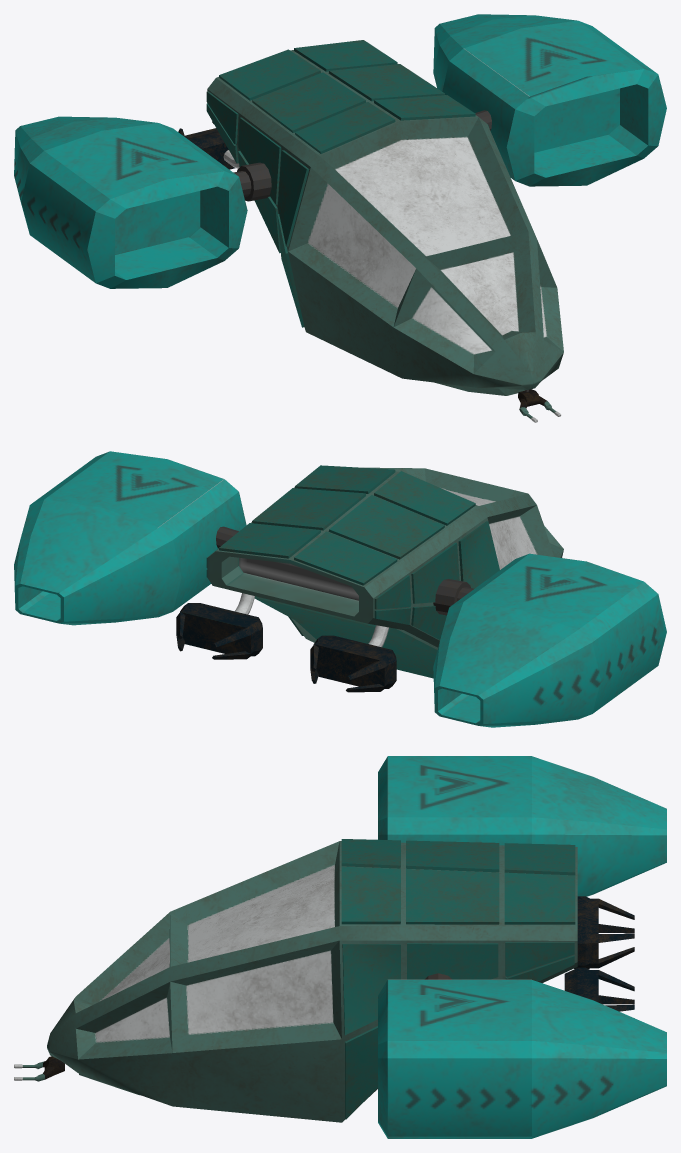
File: Spaceship.obj
3 renders of one model, top to bottom at view 1: azimuth 30°, elevation 25°; view 2: azimuth 150°, elevation 25°; view 3: azimuth 270°, elevation 25°, orthographic. The views are drawn at different scales.
Visible parts, largest first — view 1: group1 main_body, group1 R_booster, group1 L_booster, group1 polySurface22, group1 polySurface25, group1 polySurface20, group1 polySurface18, group1 polySurface24, group1 polySurface17, group1 polySurface13, group1 polySurface9, group1 R_strut (+4 smaller); view 2: group1 R_booster, group1 L_booster, group1 main_body, group1 polySurface22, group1 R_back_light, group1 L_back_light, group1 hatch_door, group1 polySurface20, group1 polySurface25, group1 polySurface18, group1 polySurface24, group1 polySurface17 (+6 smaller); view 3: group1 main_body, group1 L_booster, group1 R_booster, group1 polySurface20, group1 polySurface26, group1 polySurface24, group1 polySurface17, group1 polySurface28, group1 polySurface22, group1 R_back_light, group1 polySurface30, group1 polySurface25 (+5 smaller).
Part boxes in pixels (left/top/right/bottom): group1 main_body: left=207, top=50, right=563, bottom=395; group1 R_booster: left=14, top=116, right=247, bottom=288; group1 L_booster: left=433, top=14, right=666, bottom=186; group1 polySurface22: left=252, top=72, right=365, bottom=132; group1 polySurface25: left=219, top=49, right=320, bottom=100; group1 polySurface20: left=328, top=64, right=444, bottom=101; group1 polySurface18: left=295, top=102, right=395, bottom=153; group1 polySurface24: left=294, top=40, right=397, bottom=71; group1 polySurface17: left=374, top=95, right=475, bottom=120; group1 polySurface13: left=277, top=150, right=309, bottom=246; group1 polySurface9: left=238, top=117, right=281, bottom=204; group1 R_strut: left=233, top=162, right=271, bottom=201; group1 R_booster: left=433, top=553, right=666, bottom=727; group1 L_booster: left=14, top=451, right=246, bottom=625; group1 main_body: left=207, top=467, right=563, bottom=649; group1 polySurface22: left=328, top=495, right=444, bottom=559; group1 R_back_light: left=310, top=635, right=396, bottom=692; group1 L_back_light: left=176, top=603, right=262, bottom=659; group1 hatch_door: left=254, top=596, right=437, bottom=678; group1 polySurface20: left=252, top=488, right=365, bottom=530; group1 polySurface25: left=294, top=531, right=397, bottom=585; group1 polySurface18: left=374, top=471, right=475, bottom=525; group1 polySurface24: left=219, top=523, right=320, bottom=558; group1 polySurface17: left=295, top=465, right=395, bottom=493; group1 main_body: left=47, top=841, right=577, bottom=1122; group1 L_booster: left=378, top=979, right=666, bottom=1138; group1 R_booster: left=378, top=756, right=666, bottom=896; group1 polySurface20: left=406, top=869, right=499, bottom=924; group1 polySurface26: left=342, top=944, right=400, bottom=1035; group1 polySurface24: left=504, top=872, right=575, bottom=924; group1 polySurface17: left=341, top=866, right=400, bottom=924; group1 polySurface28: left=407, top=943, right=498, bottom=979; group1 polySurface22: left=406, top=840, right=499, bottom=872; group1 R_back_light: left=574, top=896, right=634, bottom=968; group1 polySurface30: left=345, top=1026, right=377, bottom=1119; group1 polySurface25: left=504, top=843, right=575, bottom=875.
Bounding box in the file's own units: 17.34 × 5.69 × 15.49.
